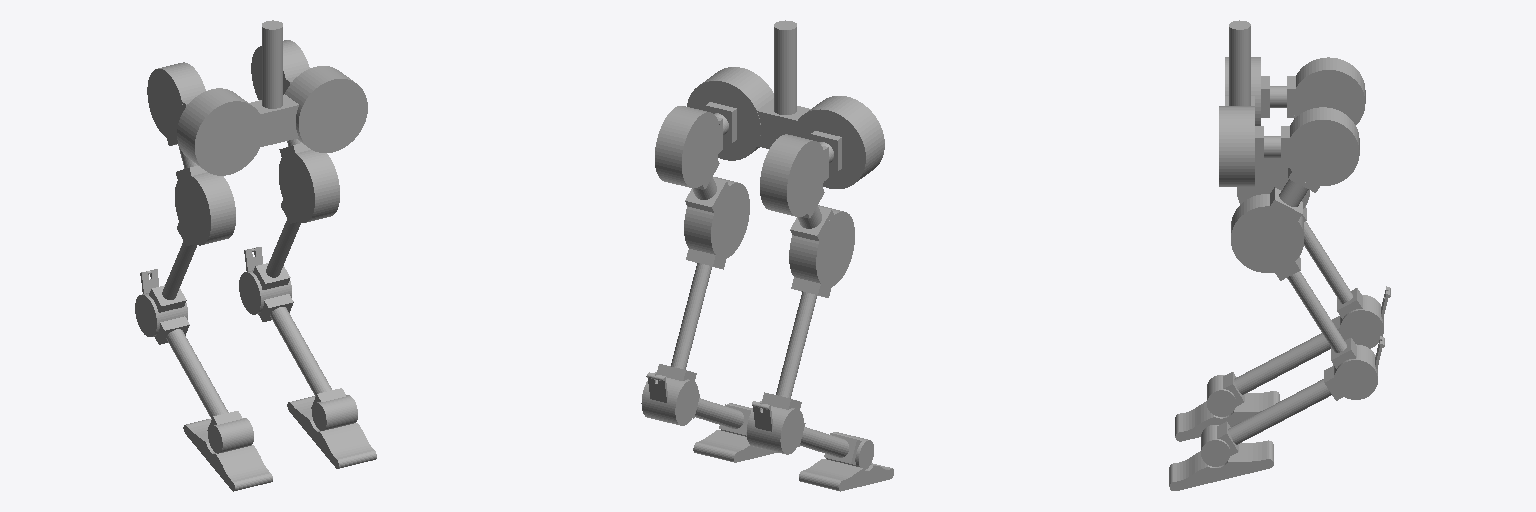
--- What the picture shows (computed from the rendered views, not written in the file) ---
The picture shows the robot from 3 angles, left to right: view 1: azimuth 30°, elevation 25°; view 2: azimuth 150°, elevation 25°; view 3: azimuth 270°, elevation 25°; orthographic projection.
Model biped-wireframe-simplified-sat-urdf with 21 links and 20 joints (10 revolute, 10 fixed), rooted at base_link, posed all joints at 0.
Visible links, largest first — view 1: hip-roll-r_1, hip-roll-l_1, knee-r_1, knee-l_1, base_link, hip-pitch-r_1, foot-l_1, foot-r_1, tarsal-r_1, tarsal-l_1, tibia-r_1, tibia-l_1 (+5 smaller); view 2: hip-roll-r_1, hip-pitch-r_1, hip-pitch-l_1, hip-roll-l_1, knee-l_1, knee-r_1, base_link, tibia-r_1, tibia-l_1, ankle-l_1, ankle-r_1, foot-r_1 (+8 smaller); view 3: hip-pitch-l_1, knee-l_1, hip-pitch-r_1, hip-roll-l_1, foot-l_1, tarsal-l_1, tarsal-r_1, foot-r_1, tibia-l_1, base_link, ankle-l_1, ankle-r_1 (+8 smaller).
Link boxes in pixels (x1,y1,x2,y2): hip-roll-r_1: (177,88,263,175); hip-roll-l_1: (285,66,367,152); knee-r_1: (175,172,235,245); knee-l_1: (279,150,339,222); base_link: (249,20,298,146); hip-pitch-r_1: (147,62,205,139); foot-l_1: (287,396,376,468); foot-r_1: (183,419,272,491); tarsal-r_1: (154,316,242,430); tarsal-l_1: (258,294,345,408); tibia-r_1: (149,223,196,312); tibia-l_1: (253,200,300,289); hip-roll-r_1: (792,96,884,188); hip-pitch-r_1: (760,134,825,216); hip-pitch-l_1: (655,106,720,188); hip-roll-l_1: (687,67,773,160); knee-l_1: (684,177,749,258); knee-r_1: (789,205,854,287); base_link: (757,20,810,148); tibia-r_1: (761,277,831,409); tibia-l_1: (656,249,726,380); ankle-l_1: (641,372,698,425); ankle-r_1: (747,401,803,454); foot-r_1: (799,459,893,491); hip-pitch-l_1: (1286,107,1359,185); knee-l_1: (1231,194,1303,272); hip-pitch-r_1: (1292,57,1365,124); hip-roll-l_1: (1219,106,1254,186); foot-l_1: (1169,440,1273,490); tarsal-l_1: (1217,365,1342,455); tarsal-r_1: (1223,316,1339,406); foot-r_1: (1175,391,1279,441); tibia-l_1: (1275,256,1356,368); base_link: (1225,20,1254,105); ankle-l_1: (1334,336,1384,399); ankle-r_1: (1340,286,1390,348).
Size in the robot's own frame: 0.2699 by 0.3004 by 0.6474 metres.
21 mesh visuals loaded from 21 distinct referenced files (21 binary STL).

robot.urdf — biped-wireframe-simplified-sat-urdf:
<?xml version="1.0" ?>
<!-- =================================================================================== -->
<!-- |    This document was autogenerated by xacro from biped-wireframe-simplified-sat-urdf.xacro | -->
<!-- |    EDITING THIS FILE BY HAND IS NOT RECOMMENDED                                 | -->
<!-- =================================================================================== -->
<robot name="biped-wireframe-simplified-sat-urdf">
  <material name="silver">
    <color rgba="0.700 0.700 0.700 1.000"/>
  </material>
  <transmission name="Revolute 123_tran">
    <type>transmission_interface/SimpleTransmission</type>
    <joint name="Revolute 123">
      <hardwareInterface>hardware_interface/EffortJointInterface</hardwareInterface>
    </joint>
    <actuator name="Revolute 123_actr">
      <hardwareInterface>hardware_interface/EffortJointInterface</hardwareInterface>
      <mechanicalReduction>1</mechanicalReduction>
    </actuator>
  </transmission>
  <transmission name="Revolute 125_tran">
    <type>transmission_interface/SimpleTransmission</type>
    <joint name="Revolute 125">
      <hardwareInterface>hardware_interface/EffortJointInterface</hardwareInterface>
    </joint>
    <actuator name="Revolute 125_actr">
      <hardwareInterface>hardware_interface/EffortJointInterface</hardwareInterface>
      <mechanicalReduction>1</mechanicalReduction>
    </actuator>
  </transmission>
  <transmission name="Revolute 127_tran">
    <type>transmission_interface/SimpleTransmission</type>
    <joint name="Revolute 127">
      <hardwareInterface>hardware_interface/EffortJointInterface</hardwareInterface>
    </joint>
    <actuator name="Revolute 127_actr">
      <hardwareInterface>hardware_interface/EffortJointInterface</hardwareInterface>
      <mechanicalReduction>1</mechanicalReduction>
    </actuator>
  </transmission>
  <transmission name="Revolute 129_tran">
    <type>transmission_interface/SimpleTransmission</type>
    <joint name="Revolute 129">
      <hardwareInterface>hardware_interface/EffortJointInterface</hardwareInterface>
    </joint>
    <actuator name="Revolute 129_actr">
      <hardwareInterface>hardware_interface/EffortJointInterface</hardwareInterface>
      <mechanicalReduction>1</mechanicalReduction>
    </actuator>
  </transmission>
  <transmission name="Revolute 131_tran">
    <type>transmission_interface/SimpleTransmission</type>
    <joint name="Revolute 131">
      <hardwareInterface>hardware_interface/EffortJointInterface</hardwareInterface>
    </joint>
    <actuator name="Revolute 131_actr">
      <hardwareInterface>hardware_interface/EffortJointInterface</hardwareInterface>
      <mechanicalReduction>1</mechanicalReduction>
    </actuator>
  </transmission>
  <transmission name="Revolute 133_tran">
    <type>transmission_interface/SimpleTransmission</type>
    <joint name="Revolute 133">
      <hardwareInterface>hardware_interface/EffortJointInterface</hardwareInterface>
    </joint>
    <actuator name="Revolute 133_actr">
      <hardwareInterface>hardware_interface/EffortJointInterface</hardwareInterface>
      <mechanicalReduction>1</mechanicalReduction>
    </actuator>
  </transmission>
  <transmission name="Revolute 135_tran">
    <type>transmission_interface/SimpleTransmission</type>
    <joint name="Revolute 135">
      <hardwareInterface>hardware_interface/EffortJointInterface</hardwareInterface>
    </joint>
    <actuator name="Revolute 135_actr">
      <hardwareInterface>hardware_interface/EffortJointInterface</hardwareInterface>
      <mechanicalReduction>1</mechanicalReduction>
    </actuator>
  </transmission>
  <transmission name="Revolute 137_tran">
    <type>transmission_interface/SimpleTransmission</type>
    <joint name="Revolute 137">
      <hardwareInterface>hardware_interface/EffortJointInterface</hardwareInterface>
    </joint>
    <actuator name="Revolute 137_actr">
      <hardwareInterface>hardware_interface/EffortJointInterface</hardwareInterface>
      <mechanicalReduction>1</mechanicalReduction>
    </actuator>
  </transmission>
  <transmission name="Revolute 139_tran">
    <type>transmission_interface/SimpleTransmission</type>
    <joint name="Revolute 139">
      <hardwareInterface>hardware_interface/EffortJointInterface</hardwareInterface>
    </joint>
    <actuator name="Revolute 139_actr">
      <hardwareInterface>hardware_interface/EffortJointInterface</hardwareInterface>
      <mechanicalReduction>1</mechanicalReduction>
    </actuator>
  </transmission>
  <transmission name="Revolute 141_tran">
    <type>transmission_interface/SimpleTransmission</type>
    <joint name="Revolute 141">
      <hardwareInterface>hardware_interface/EffortJointInterface</hardwareInterface>
    </joint>
    <actuator name="Revolute 141_actr">
      <hardwareInterface>hardware_interface/EffortJointInterface</hardwareInterface>
      <mechanicalReduction>1</mechanicalReduction>
    </actuator>
  </transmission>
  <gazebo>
    <plugin filename="libgazebo_ros_control.so" name="control"/>
  </gazebo>
  <gazebo reference="base_link">
    <material>Gazebo/Silver</material>
    <mu1>0.2</mu1>
    <mu2>0.2</mu2>
    <selfCollide>true</selfCollide>
    <gravity>true</gravity>
  </gazebo>
  <gazebo reference="hip-roll-l_1">
    <material>Gazebo/Silver</material>
    <mu1>0.2</mu1>
    <mu2>0.2</mu2>
    <selfCollide>true</selfCollide>
  </gazebo>
  <gazebo reference="hip-link-l_1">
    <material>Gazebo/Silver</material>
    <mu1>0.2</mu1>
    <mu2>0.2</mu2>
    <selfCollide>true</selfCollide>
  </gazebo>
  <gazebo reference="hip-pitch-l_1">
    <material>Gazebo/Silver</material>
    <mu1>0.2</mu1>
    <mu2>0.2</mu2>
    <selfCollide>true</selfCollide>
  </gazebo>
  <gazebo reference="thigh-l_1">
    <material>Gazebo/Silver</material>
    <mu1>0.2</mu1>
    <mu2>0.2</mu2>
    <selfCollide>true</selfCollide>
  </gazebo>
  <gazebo reference="knee-l_1">
    <material>Gazebo/Silver</material>
    <mu1>0.2</mu1>
    <mu2>0.2</mu2>
    <selfCollide>true</selfCollide>
  </gazebo>
  <gazebo reference="tibia-l_1">
    <material>Gazebo/Silver</material>
    <mu1>0.2</mu1>
    <mu2>0.2</mu2>
    <selfCollide>true</selfCollide>
  </gazebo>
  <gazebo reference="ankle-l_1">
    <material>Gazebo/Silver</material>
    <mu1>0.2</mu1>
    <mu2>0.2</mu2>
    <selfCollide>true</selfCollide>
  </gazebo>
  <gazebo reference="tarsal-l_1">
    <material>Gazebo/Silver</material>
    <mu1>0.2</mu1>
    <mu2>0.2</mu2>
    <selfCollide>true</selfCollide>
  </gazebo>
  <gazebo reference="toes-l_1">
    <material>Gazebo/Silver</material>
    <mu1>0.2</mu1>
    <mu2>0.2</mu2>
    <selfCollide>true</selfCollide>
  </gazebo>
  <gazebo reference="foot-l_1">
    <material>Gazebo/Silver</material>
    <mu1>0.2</mu1>
    <mu2>0.2</mu2>
    <selfCollide>true</selfCollide>
  </gazebo>
  <gazebo reference="hip-roll-r_1">
    <material>Gazebo/Silver</material>
    <mu1>0.2</mu1>
    <mu2>0.2</mu2>
    <selfCollide>true</selfCollide>
  </gazebo>
  <gazebo reference="hip-link-r_1">
    <material>Gazebo/Silver</material>
    <mu1>0.2</mu1>
    <mu2>0.2</mu2>
    <selfCollide>true</selfCollide>
  </gazebo>
  <gazebo reference="hip-pitch-r_1">
    <material>Gazebo/Silver</material>
    <mu1>0.2</mu1>
    <mu2>0.2</mu2>
    <selfCollide>true</selfCollide>
  </gazebo>
  <gazebo reference="thigh-r_1">
    <material>Gazebo/Silver</material>
    <mu1>0.2</mu1>
    <mu2>0.2</mu2>
    <selfCollide>true</selfCollide>
  </gazebo>
  <gazebo reference="knee-r_1">
    <material>Gazebo/Silver</material>
    <mu1>0.2</mu1>
    <mu2>0.2</mu2>
    <selfCollide>true</selfCollide>
  </gazebo>
  <gazebo reference="tibia-r_1">
    <material>Gazebo/Silver</material>
    <mu1>0.2</mu1>
    <mu2>0.2</mu2>
    <selfCollide>true</selfCollide>
  </gazebo>
  <gazebo reference="ankle-r_1">
    <material>Gazebo/Silver</material>
    <mu1>0.2</mu1>
    <mu2>0.2</mu2>
    <selfCollide>true</selfCollide>
  </gazebo>
  <gazebo reference="tarsal-r_1">
    <material>Gazebo/Silver</material>
    <mu1>0.2</mu1>
    <mu2>0.2</mu2>
    <selfCollide>true</selfCollide>
  </gazebo>
  <gazebo reference="toes-r_1">
    <material>Gazebo/Silver</material>
    <mu1>0.2</mu1>
    <mu2>0.2</mu2>
    <selfCollide>true</selfCollide>
  </gazebo>
  <gazebo reference="foot-r_1">
    <material>Gazebo/Silver</material>
    <mu1>0.2</mu1>
    <mu2>0.2</mu2>
    <selfCollide>true</selfCollide>
  </gazebo>
  <link name="base_link">
    <inertial>
      <origin rpy="0 0 0" xyz="1.1802248376466051e-17 0.0 0.037424596835779436"/>
      <mass value="0.20421201815275936"/>
      <inertia ixx="0.000517" ixy="0.0" ixz="0.0" iyy="0.00053" iyz="0.0" izz="5.3e-05"/>
    </inertial>
    <visual>
      <origin rpy="0 0 0" xyz="0 0 0"/>
      <geometry>
        <mesh filename="../meshes/base_link.stl" scale="0.001 0.001 0.001"/>
      </geometry>
      <material name="silver"/>
    </visual>
    <collision>
      <origin rpy="0 0 0" xyz="0 0 0"/>
      <geometry>
        <mesh filename="../meshes/base_link.stl" scale="0.001 0.001 0.001"/>
      </geometry>
    </collision>
  </link>
  <link name="hip-roll-l_1">
    <inertial>
      <origin rpy="0 0 0" xyz="5.551115123125783e-17 -0.0037499999999999873 -8.326672684688674e-19"/>
      <mass value="0.4885655669211801"/>
      <inertia ixx="0.000465" ixy="0.0" ixz="-0.0" iyy="0.000739" iyz="-0.0" izz="0.000465"/>
    </inertial>
    <visual>
      <origin rpy="0 0 0" xyz="-0.08 -0.0 -0.0"/>
      <geometry>
        <mesh filename="../meshes/hip-roll-l_1.stl" scale="0.001 0.001 0.001"/>
      </geometry>
      <material name="silver"/>
    </visual>
    <collision>
      <origin rpy="0 0 0" xyz="-0.08 -0.0 -0.0"/>
      <geometry>
        <mesh filename="../meshes/hip-roll-l_1.stl" scale="0.001 0.001 0.001"/>
      </geometry>
    </collision>
  </link>
  <link name="hip-link-l_1">
    <inertial>
      <origin rpy="0 0 0" xyz="2.7755575615628914e-17 0.020319825055744634 -1.110223024625157e-18"/>
      <mass value="0.057566106473135585"/>
      <inertia ixx="2.4e-05" ixy="-0.0" ixz="-0.0" iyy="1.7e-05" iyz="-0.0" izz="2.2e-05"/>
    </inertial>
    <visual>
      <origin rpy="0 0 0" xyz="-0.08 -0.0205 0.0"/>
      <geometry>
        <mesh filename="../meshes/hip-link-l_1.stl" scale="0.001 0.001 0.001"/>
      </geometry>
      <material name="silver"/>
    </visual>
    <collision>
      <origin rpy="0 0 0" xyz="-0.08 -0.0205 0.0"/>
      <geometry>
        <mesh filename="../meshes/hip-link-l_1.stl" scale="0.001 0.001 0.001"/>
      </geometry>
    </collision>
  </link>
  <link name="hip-pitch-l_1">
    <inertial>
      <origin rpy="0 0 0" xyz="2.7755575615628914e-17 1.3877787807814457e-17 -8.396723130026427e-18"/>
      <mass value="0.33300882128051806"/>
      <inertia ixx="0.000416" ixy="-0.0" ixz="-0.0" iyy="0.000253" iyz="-0.0" izz="0.000253"/>
    </inertial>
    <visual>
      <origin rpy="0 0 0" xyz="-0.08 -0.1125 0.0"/>
      <geometry>
        <mesh filename="../meshes/hip-pitch-l_1.stl" scale="0.001 0.001 0.001"/>
      </geometry>
      <material name="silver"/>
    </visual>
    <collision>
      <origin rpy="0 0 0" xyz="-0.08 -0.1125 0.0"/>
      <geometry>
        <mesh filename="../meshes/hip-pitch-l_1.stl" scale="0.001 0.001 0.001"/>
      </geometry>
    </collision>
  </link>
  <link name="thigh-l_1">
    <inertial>
      <origin rpy="0 0 0" xyz="8.326672684688674e-17 -0.037499999999999895 -0.0649519052838326"/>
      <mass value="0.05221322554927621"/>
      <inertia ixx="3.2e-05" ixy="-0.0" ixz="-0.0" iyy="2.6e-05" iyz="-6e-06" izz="1.9e-05"/>
    </inertial>
    <visual>
      <origin rpy="0 0 0" xyz="-0.08 -0.1125 0.0"/>
      <geometry>
        <mesh filename="../meshes/thigh-l_1.stl" scale="0.001 0.001 0.001"/>
      </geometry>
      <material name="silver"/>
    </visual>
    <collision>
      <origin rpy="0 0 0" xyz="-0.08 -0.1125 0.0"/>
      <geometry>
        <mesh filename="../meshes/thigh-l_1.stl" scale="0.001 0.001 0.001"/>
      </geometry>
    </collision>
  </link>
  <link name="knee-l_1">
    <inertial>
      <origin rpy="0 0 0" xyz="1.3877787807814457e-16 2.8449465006019636e-16 1.8943233465185116e-07"/>
      <mass value="0.3330088212805181"/>
      <inertia ixx="0.000416" ixy="0.0" ixz="0.0" iyy="0.000253" iyz="-0.0" izz="0.000253"/>
    </inertial>
    <visual>
      <origin rpy="0 0 0" xyz="-0.08 -0.0375 0.129904"/>
      <geometry>
        <mesh filename="../meshes/knee-l_1.stl" scale="0.001 0.001 0.001"/>
      </geometry>
      <material name="silver"/>
    </visual>
    <collision>
      <origin rpy="0 0 0" xyz="-0.08 -0.0375 0.129904"/>
      <geometry>
        <mesh filename="../meshes/knee-l_1.stl" scale="0.001 0.001 0.001"/>
      </geometry>
    </collision>
  </link>
  <link name="tibia-l_1">
    <inertial>
      <origin rpy="0 0 0" xyz="1.8041124150158794e-16 0.06374254386577449 -0.11040513514687411"/>
      <mass value="0.057667742677937554"/>
      <inertia ixx="0.000281" ixy="0.0" ixz="0.0" iyy="0.000215" iyz="0.000118" izz="7.9e-05"/>
    </inertial>
    <visual>
      <origin rpy="0 0 0" xyz="-0.08 -0.0375 0.129904"/>
      <geometry>
        <mesh filename="../meshes/tibia-l_1.stl" scale="0.001 0.001 0.001"/>
      </geometry>
      <material name="silver"/>
    </visual>
    <collision>
      <origin rpy="0 0 0" xyz="-0.08 -0.0375 0.129904"/>
      <geometry>
        <mesh filename="../meshes/tibia-l_1.stl" scale="0.001 0.001 0.001"/>
      </geometry>
    </collision>
  </link>
  <link name="ankle-l_1">
    <inertial>
      <origin rpy="0 0 0" xyz="2.3592239273284576e-16 0.0008113134157237967 0.0007770662114900406"/>
      <mass value="0.15380067557067834"/>
      <inertia ixx="7.5e-05" ixy="0.0" ixz="-0.0" iyy="6.9e-05" iyz="-4e-06" izz="6.9e-05"/>
    </inertial>
    <visual>
      <origin rpy="0 0 0" xyz="-0.08 -0.1575 0.33775"/>
      <geometry>
        <mesh filename="../meshes/ankle-l_1.stl" scale="0.001 0.001 0.001"/>
      </geometry>
      <material name="silver"/>
    </visual>
    <collision>
      <origin rpy="0 0 0" xyz="-0.08 -0.1575 0.33775"/>
      <geometry>
        <mesh filename="../meshes/ankle-l_1.stl" scale="0.001 0.001 0.001"/>
      </geometry>
    </collision>
  </link>
  <link name="tarsal-l_1">
    <inertial>
      <origin rpy="0 0 0" xyz="2.7755575615628914e-16 -0.09671813780361416 -0.05584015037236595"/>
      <mass value="0.0775117685211312"/>
      <inertia ixx="0.000341" ixy="-0.0" ixz="0.0" iyy="9.6e-05" iyz="-0.000142" izz="0.00026"/>
    </inertial>
    <visual>
      <origin rpy="0 0 0" xyz="-0.08 -0.1575 0.33775"/>
      <geometry>
        <mesh filename="../meshes/tarsal-l_1.stl" scale="0.001 0.001 0.001"/>
      </geometry>
      <material name="silver"/>
    </visual>
    <collision>
      <origin rpy="0 0 0" xyz="-0.08 -0.1575 0.33775"/>
      <geometry>
        <mesh filename="../meshes/tarsal-l_1.stl" scale="0.001 0.001 0.001"/>
      </geometry>
    </collision>
  </link>
  <link name="toes-l_1">
    <inertial>
      <origin rpy="0 0 0" xyz="4.996003610813204e-16 4.1116742330316036e-07 9.252406962811932e-08"/>
      <mass value="0.06660176425610363"/>
      <inertia ixx="1.3e-05" ixy="0.0" ixz="0.0" iyy="2.1e-05" iyz="-0.0" izz="2.1e-05"/>
    </inertial>
    <visual>
      <origin rpy="0 0 0" xyz="-0.08 0.033026 0.44775"/>
      <geometry>
        <mesh filename="../meshes/toes-l_1.stl" scale="0.001 0.001 0.001"/>
      </geometry>
      <material name="silver"/>
    </visual>
    <collision>
      <origin rpy="0 0 0" xyz="-0.08 0.033026 0.44775"/>
      <geometry>
        <mesh filename="../meshes/toes-l_1.stl" scale="0.001 0.001 0.001"/>
      </geometry>
    </collision>
  </link>
  <link name="foot-l_1">
    <inertial>
      <origin rpy="0 0 0" xyz="7.216449660063518e-16 0.0077603101436675495 -0.028101333121559102"/>
      <mass value="0.18727145959216754"/>
      <inertia ixx="0.000281" ixy="-0.0" ixz="-0.0" iyy="8e-05" iyz="-6.7e-05" izz="0.000313"/>
    </inertial>
    <visual>
      <origin rpy="0 0 0" xyz="-0.08 0.033026 0.44775"/>
      <geometry>
        <mesh filename="../meshes/foot-l_1.stl" scale="0.001 0.001 0.001"/>
      </geometry>
      <material name="silver"/>
    </visual>
    <collision>
      <origin rpy="0 0 0" xyz="-0.08 0.033026 0.44775"/>
      <geometry>
        <mesh filename="../meshes/foot-l_1.stl" scale="0.001 0.001 0.001"/>
      </geometry>
    </collision>
  </link>
  <link name="hip-roll-r_1">
    <inertial>
      <origin rpy="0 0 0" xyz="-6.938893903907228e-17 -0.003750000000000018 9.866274346292968e-18"/>
      <mass value="0.4885655669211801"/>
      <inertia ixx="0.000465" ixy="0.0" ixz="0.0" iyy="0.000739" iyz="0.0" izz="0.000465"/>
    </inertial>
    <visual>
      <origin rpy="0 0 0" xyz="0.08 -0.008 -0.0"/>
      <geometry>
        <mesh filename="../meshes/hip-roll-r_1.stl" scale="0.001 0.001 0.001"/>
      </geometry>
      <material name="silver"/>
    </visual>
    <collision>
      <origin rpy="0 0 0" xyz="0.08 -0.008 -0.0"/>
      <geometry>
        <mesh filename="../meshes/hip-roll-r_1.stl" scale="0.001 0.001 0.001"/>
      </geometry>
    </collision>
  </link>
  <link name="hip-link-r_1">
    <inertial>
      <origin rpy="0 0 0" xyz="4.163336342344337e-17 0.0203198250557446 -3.530119281598861e-18"/>
      <mass value="0.0575661064731355"/>
      <inertia ixx="2.4e-05" ixy="-0.0" ixz="-0.0" iyy="1.7e-05" iyz="-0.0" izz="2.2e-05"/>
    </inertial>
    <visual>
      <origin rpy="0 0 0" xyz="0.08 -0.0285 -0.0"/>
      <geometry>
        <mesh filename="../meshes/hip-link-r_1.stl" scale="0.001 0.001 0.001"/>
      </geometry>
      <material name="silver"/>
    </visual>
    <collision>
      <origin rpy="0 0 0" xyz="0.08 -0.0285 -0.0"/>
      <geometry>
        <mesh filename="../meshes/hip-link-r_1.stl" scale="0.001 0.001 0.001"/>
      </geometry>
    </collision>
  </link>
  <link name="hip-pitch-r_1">
    <inertial>
      <origin rpy="0 0 0" xyz="-3.3306690738754696e-16 -8.326672684688674e-17 2.0988833737942367e-16"/>
      <mass value="0.3330088212805179"/>
      <inertia ixx="0.000416" ixy="0.0" ixz="0.0" iyy="0.000253" iyz="0.0" izz="0.000253"/>
    </inertial>
    <visual>
      <origin rpy="0 0 0" xyz="0.08 -0.1205 -0.0"/>
      <geometry>
        <mesh filename="../meshes/hip-pitch-r_1.stl" scale="0.001 0.001 0.001"/>
      </geometry>
      <material name="silver"/>
    </visual>
    <collision>
      <origin rpy="0 0 0" xyz="0.08 -0.1205 -0.0"/>
      <geometry>
        <mesh filename="../meshes/hip-pitch-r_1.stl" scale="0.001 0.001 0.001"/>
      </geometry>
    </collision>
  </link>
  <link name="thigh-r_1">
    <inertial>
      <origin rpy="0 0 0" xyz="-6.938893903907228e-17 -0.037499999999999936 -0.06495190528383282"/>
      <mass value="0.05221322554927619"/>
      <inertia ixx="3.2e-05" ixy="-0.0" ixz="-0.0" iyy="2.6e-05" iyz="-6e-06" izz="1.9e-05"/>
    </inertial>
    <visual>
      <origin rpy="0 0 0" xyz="0.08 -0.1205 -0.0"/>
      <geometry>
        <mesh filename="../meshes/thigh-r_1.stl" scale="0.001 0.001 0.001"/>
      </geometry>
      <material name="silver"/>
    </visual>
    <collision>
      <origin rpy="0 0 0" xyz="0.08 -0.1205 -0.0"/>
      <geometry>
        <mesh filename="../meshes/thigh-r_1.stl" scale="0.001 0.001 0.001"/>
      </geometry>
    </collision>
  </link>
  <link name="knee-r_1">
    <inertial>
      <origin rpy="0 0 0" xyz="9.71445146547012e-17 6.938893903907228e-17 1.8943233376367274e-07"/>
      <mass value="0.33300882128051834"/>
      <inertia ixx="0.000416" ixy="0.0" ixz="0.0" iyy="0.000253" iyz="-0.0" izz="0.000253"/>
    </inertial>
    <visual>
      <origin rpy="0 0 0" xyz="0.08 -0.0455 0.129904"/>
      <geometry>
        <mesh filename="../meshes/knee-r_1.stl" scale="0.001 0.001 0.001"/>
      </geometry>
      <material name="silver"/>
    </visual>
    <collision>
      <origin rpy="0 0 0" xyz="0.08 -0.0455 0.129904"/>
      <geometry>
        <mesh filename="../meshes/knee-r_1.stl" scale="0.001 0.001 0.001"/>
      </geometry>
    </collision>
  </link>
  <link name="tibia-r_1">
    <inertial>
      <origin rpy="0 0 0" xyz="1.3877787807814457e-16 0.06374254386577424 -0.11040513514687492"/>
      <mass value="0.05766774267793756"/>
      <inertia ixx="0.000281" ixy="-0.0" ixz="0.0" iyy="0.000215" iyz="0.000118" izz="7.9e-05"/>
    </inertial>
    <visual>
      <origin rpy="0 0 0" xyz="0.08 -0.0455 0.129904"/>
      <geometry>
        <mesh filename="../meshes/tibia-r_1.stl" scale="0.001 0.001 0.001"/>
      </geometry>
      <material name="silver"/>
    </visual>
    <collision>
      <origin rpy="0 0 0" xyz="0.08 -0.0455 0.129904"/>
      <geometry>
        <mesh filename="../meshes/tibia-r_1.stl" scale="0.001 0.001 0.001"/>
      </geometry>
    </collision>
  </link>
  <link name="ankle-r_1">
    <inertial>
      <origin rpy="0 0 0" xyz="1.124100812432971e-15 0.0008113134157236301 0.0007770662114892635"/>
      <mass value="0.15380067557067836"/>
      <inertia ixx="7.5e-05" ixy="0.0" ixz="-0.0" iyy="6.9e-05" iyz="-4e-06" izz="6.9e-05"/>
    </inertial>
    <visual>
      <origin rpy="0 0 0" xyz="0.08 -0.1655 0.33775"/>
      <geometry>
        <mesh filename="../meshes/ankle-r_1.stl" scale="0.001 0.001 0.001"/>
      </geometry>
      <material name="silver"/>
    </visual>
    <collision>
      <origin rpy="0 0 0" xyz="0.08 -0.1655 0.33775"/>
      <geometry>
        <mesh filename="../meshes/ankle-r_1.stl" scale="0.001 0.001 0.001"/>
      </geometry>
    </collision>
  </link>
  <link name="tarsal-r_1">
    <inertial>
      <origin rpy="0 0 0" xyz="4.0245584642661925e-16 -0.09671813780361424 -0.05584015037236717"/>
      <mass value="0.07751176852113106"/>
      <inertia ixx="0.000341" ixy="-0.0" ixz="0.0" iyy="9.6e-05" iyz="-0.000142" izz="0.00026"/>
    </inertial>
    <visual>
      <origin rpy="0 0 0" xyz="0.08 -0.1655 0.33775"/>
      <geometry>
        <mesh filename="../meshes/tarsal-r_1.stl" scale="0.001 0.001 0.001"/>
      </geometry>
      <material name="silver"/>
    </visual>
    <collision>
      <origin rpy="0 0 0" xyz="0.08 -0.1655 0.33775"/>
      <geometry>
        <mesh filename="../meshes/tarsal-r_1.stl" scale="0.001 0.001 0.001"/>
      </geometry>
    </collision>
  </link>
  <link name="toes-r_1">
    <inertial>
      <origin rpy="0 0 0" xyz="2.0816681711721685e-16 4.111674232233631e-07 9.252406890647435e-08"/>
      <mass value="0.06660176425610362"/>
      <inertia ixx="1.3e-05" ixy="0.0" ixz="-0.0" iyy="2.1e-05" iyz="-0.0" izz="2.1e-05"/>
    </inertial>
    <visual>
      <origin rpy="0 0 0" xyz="0.08 0.025026 0.44775"/>
      <geometry>
        <mesh filename="../meshes/toes-r_1.stl" scale="0.001 0.001 0.001"/>
      </geometry>
      <material name="silver"/>
    </visual>
    <collision>
      <origin rpy="0 0 0" xyz="0.08 0.025026 0.44775"/>
      <geometry>
        <mesh filename="../meshes/toes-r_1.stl" scale="0.001 0.001 0.001"/>
      </geometry>
    </collision>
  </link>
  <link name="foot-r_1">
    <inertial>
      <origin rpy="0 0 0" xyz="-2.636779683484747e-16 0.007760310143667563 -0.02810133312156149"/>
      <mass value="0.1872714595921685"/>
      <inertia ixx="0.000281" ixy="0.0" ixz="0.0" iyy="8e-05" iyz="-6.7e-05" izz="0.000313"/>
    </inertial>
    <visual>
      <origin rpy="0 0 0" xyz="0.08 0.025026 0.44775"/>
      <geometry>
        <mesh filename="../meshes/foot-r_1.stl" scale="0.001 0.001 0.001"/>
      </geometry>
      <material name="silver"/>
    </visual>
    <collision>
      <origin rpy="0 0 0" xyz="0.08 0.025026 0.44775"/>
      <geometry>
        <mesh filename="../meshes/foot-r_1.stl" scale="0.001 0.001 0.001"/>
      </geometry>
    </collision>
  </link>
  <joint name="fixed_hip_roll_l" type="fixed">
    <origin rpy="0 0 0" xyz="0.08 0.0 0.0"/>
    <parent link="base_link"/>
    <child link="hip-roll-l_1"/>
  </joint>
  <joint name="hip_roll_l" type="revolute">
    <origin rpy="0 0 0" xyz="0.0 0.0205 -0.0"/>
    <parent link="hip-roll-l_1"/>
    <child link="hip-link-l_1"/>
    <axis xyz="0.0 1.0 -0.0"/>
  </joint>
  <joint name="fixed_hip_pitch_l" type="fixed">
    <origin rpy="0 0 0" xyz="0.0 0.092 0.0"/>
    <parent link="hip-link-l_1"/>
    <child link="hip-pitch-l_1"/>
  </joint>
  <joint name="hip_pitch_l" type="revolute">
    <origin rpy="0 0 0" xyz="0.0 0.0 0.0"/>
    <parent link="hip-pitch-l_1"/>
    <child link="thigh-l_1"/>
    <axis xyz="-1.0 0.0 0.0"/>
  </joint>
  <joint name="fixed_knee_l" type="fixed">
    <origin rpy="0 0 0" xyz="0.0 -0.075 -0.129904"/>
    <parent link="thigh-l_1"/>
    <child link="knee-l_1"/>
  </joint>
  <joint name="knee_l" type="revolute">
    <origin rpy="0 0 0" xyz="0.0 0.0 0.0"/>
    <parent link="knee-l_1"/>
    <child link="tibia-l_1"/>
    <axis xyz="-1.0 -0.0 -0.0"/>
  </joint>
  <joint name="fixed_ankle_l" type="fixed">
    <origin rpy="0 0 0" xyz="0.0 0.12 -0.207846"/>
    <parent link="tibia-l_1"/>
    <child link="ankle-l_1"/>
  </joint>
  <joint name="ankle_l" type="revolute">
    <origin rpy="0 0 0" xyz="0.0 0.0 0.0"/>
    <parent link="ankle-l_1"/>
    <child link="tarsal-l_1"/>
    <axis xyz="1.0 0.0 0.0"/>
  </joint>
  <joint name="fixed_toe_l" type="fixed">
    <origin rpy="0 0 0" xyz="0.0 -0.190526 -0.11"/>
    <parent link="tarsal-l_1"/>
    <child link="toes-l_1"/>
  </joint>
  <joint name="feet_l" type="revolute">
    <origin rpy="0 0 0" xyz="0.0 0.0 0.0"/>
    <parent link="toes-l_1"/>
    <child link="foot-l_1"/>
    <axis xyz="-1.0 0.0 0.0"/>
  </joint>
  <joint name="fixed_hip_roll_r" type="fixed">
    <origin rpy="0 0 0" xyz="-0.08 0.008 0.0"/>
    <parent link="base_link"/>
    <child link="hip-roll-r_1"/>
  </joint>
  <joint name="hip_roll_r" type="revolute">
    <origin rpy="0 0 0" xyz="0.0 0.0205 0.0"/>
    <parent link="hip-roll-r_1"/>
    <child link="hip-link-r_1"/>
    <axis xyz="0.0 1.0 -0.0"/>
  </joint>
  <joint name="fixed_hip_pitch_r" type="fixed">
    <origin rpy="0 0 0" xyz="0.0 0.092 0.0"/>
    <parent link="hip-link-r_1"/>
    <child link="hip-pitch-r_1"/>
  </joint>
  <joint name="hip_pitch_r" type="revolute">
    <origin rpy="0 0 0" xyz="0.0 0.0 0.0"/>
    <parent link="hip-pitch-r_1"/>
    <child link="thigh-r_1"/>
    <axis xyz="-1.0 -0.0 0.0"/>
  </joint>
  <joint name="fixed_knee_r" type="fixed">
    <origin rpy="0 0 0" xyz="0.0 -0.075 -0.129904"/>
    <parent link="thigh-r_1"/>
    <child link="knee-r_1"/>
  </joint>
  <joint name="knee_r" type="revolute">
    <origin rpy="0 0 0" xyz="0.0 0.0 0.0"/>
    <parent link="knee-r_1"/>
    <child link="tibia-r_1"/>
    <axis xyz="-1.0 0.0 -0.0"/>
  </joint>
  <joint name="fixed_ankle_r" type="fixed">
    <origin rpy="0 0 0" xyz="0.0 0.12 -0.207846"/>
    <parent link="tibia-r_1"/>
    <child link="ankle-r_1"/>
  </joint>
  <joint name="ankle_r" type="revolute">
    <origin rpy="0 0 0" xyz="0.0 0.0 0.0"/>
    <parent link="ankle-r_1"/>
    <child link="tarsal-r_1"/>
    <axis xyz="1.0 -0.0 0.0"/>
  </joint>
  <joint name="fixed_toe_r" type="fixed">
    <origin rpy="0 0 0" xyz="0.0 -0.190526 -0.11"/>
    <parent link="tarsal-r_1"/>
    <child link="toes-r_1"/>
  </joint>
  <joint name="feet_r" type="revolute">
    <origin rpy="0 0 0" xyz="0.0 0.0 0.0"/>
    <parent link="toes-r_1"/>
    <child link="foot-r_1"/>
    <axis xyz="-1.0 -0.0 -0.0"/>
  </joint>
</robot>
